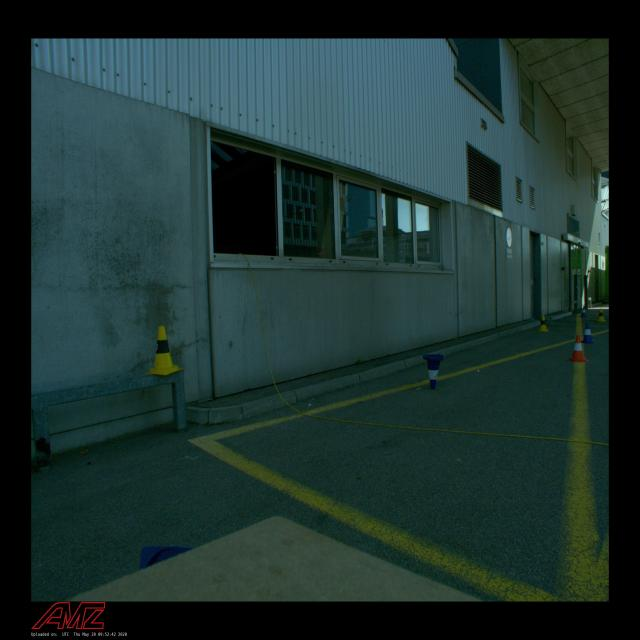blue_cone: (422, 354, 444, 390), (580, 323, 597, 344), (580, 306, 588, 318)
orange_cone: (566, 335, 590, 362)
yellow_cone: (144, 326, 183, 376), (537, 315, 550, 332), (596, 308, 606, 322)
